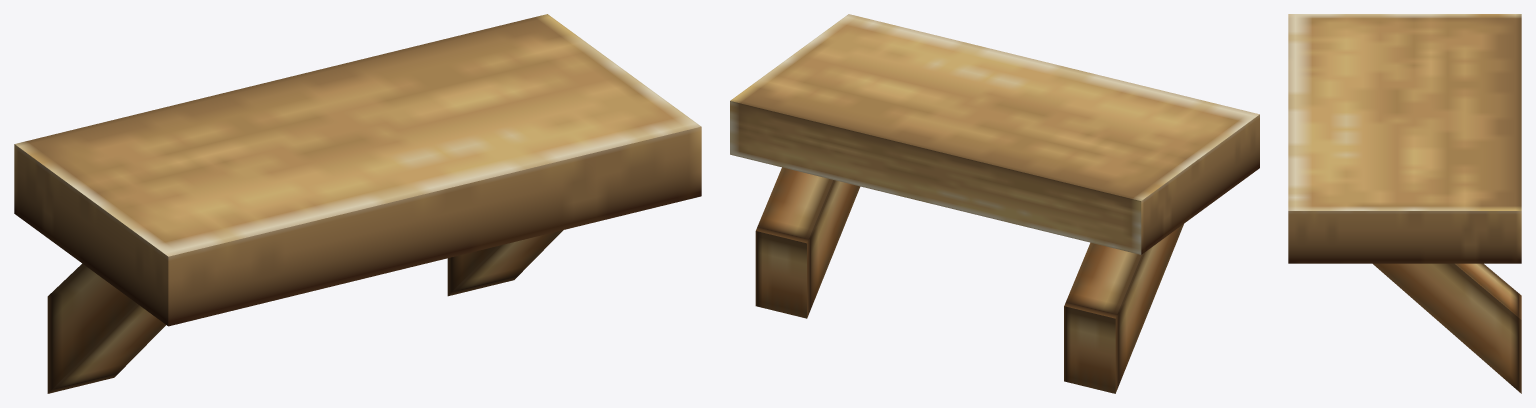
File: Inside_Poly_Shelf_Wall_01.obj
3 views of the same model, side by side, from view 1: azimuth 30°, elevation 25°; view 2: azimuth 150°, elevation 25°; view 3: azimuth 270°, elevation 25° (orthographic). The views are drawn at different scales.
Visible parts, largest first — view 1: Cube.001, Cube.003; view 2: Cube.001, Cube.003; view 3: Cube.001, Cube.003.
Boxes of the visible parts, <box> form: Cube.001: <box>14,14,701,326</box>; Cube.003: <box>47,230,563,393</box>; Cube.001: <box>730,14,1259,254</box>; Cube.003: <box>755,167,1183,393</box>; Cube.001: <box>1288,14,1521,263</box>; Cube.003: <box>1373,263,1521,393</box>.
Bounding box in the file's own units: 0.8 × 0.37 × 0.4.
Materials: 1 (1 with a texture image).
